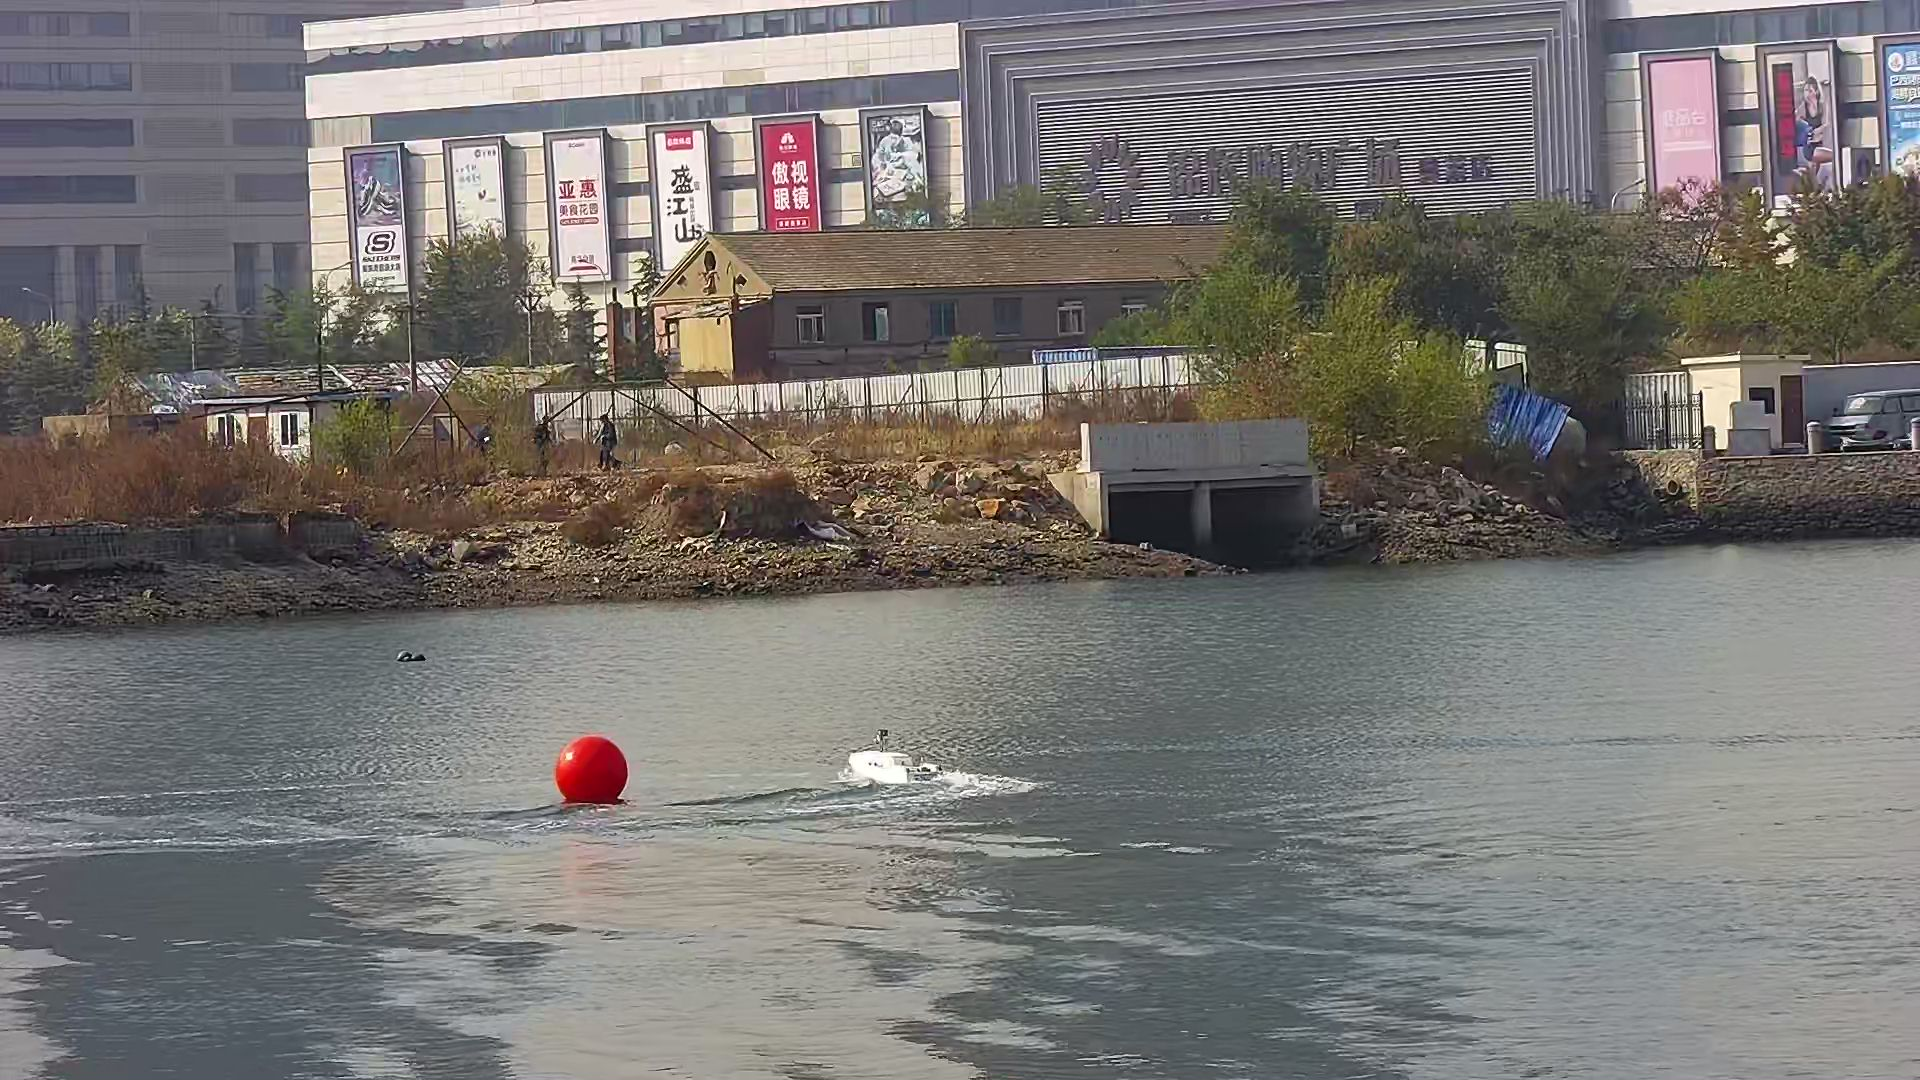ball: (553, 737, 628, 808)
boat: (828, 723, 943, 793)
rubbish: (392, 650, 429, 669)
